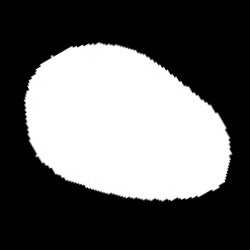spot: (23, 44, 231, 202)
